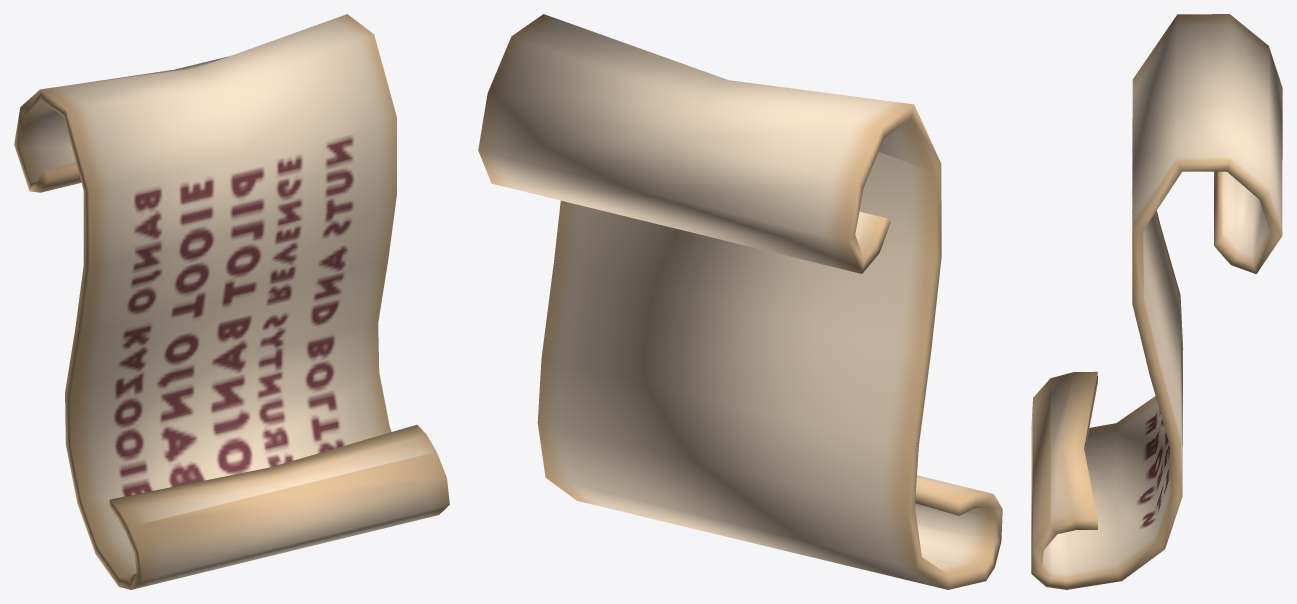
The model's file is CheatoPage.fbx.
The picture shows the model from 3 angles, left to right: view 1: azimuth 30°, elevation 25°; view 2: azimuth 150°, elevation 25°; view 3: azimuth 270°, elevation 25°; orthographic projection. The views are drawn at different scales.
Visible parts, largest first — view 1: Plane; view 2: Plane; view 3: Plane.
Part boxes in pixels (<box>): Plane: <box>14,14,449,589</box>; Plane: <box>478,14,1002,589</box>; Plane: <box>1031,14,1282,589</box>.
Bounding box in the file's own units: 74.95 × 99 × 52.47.
1 material, 1 textured.
